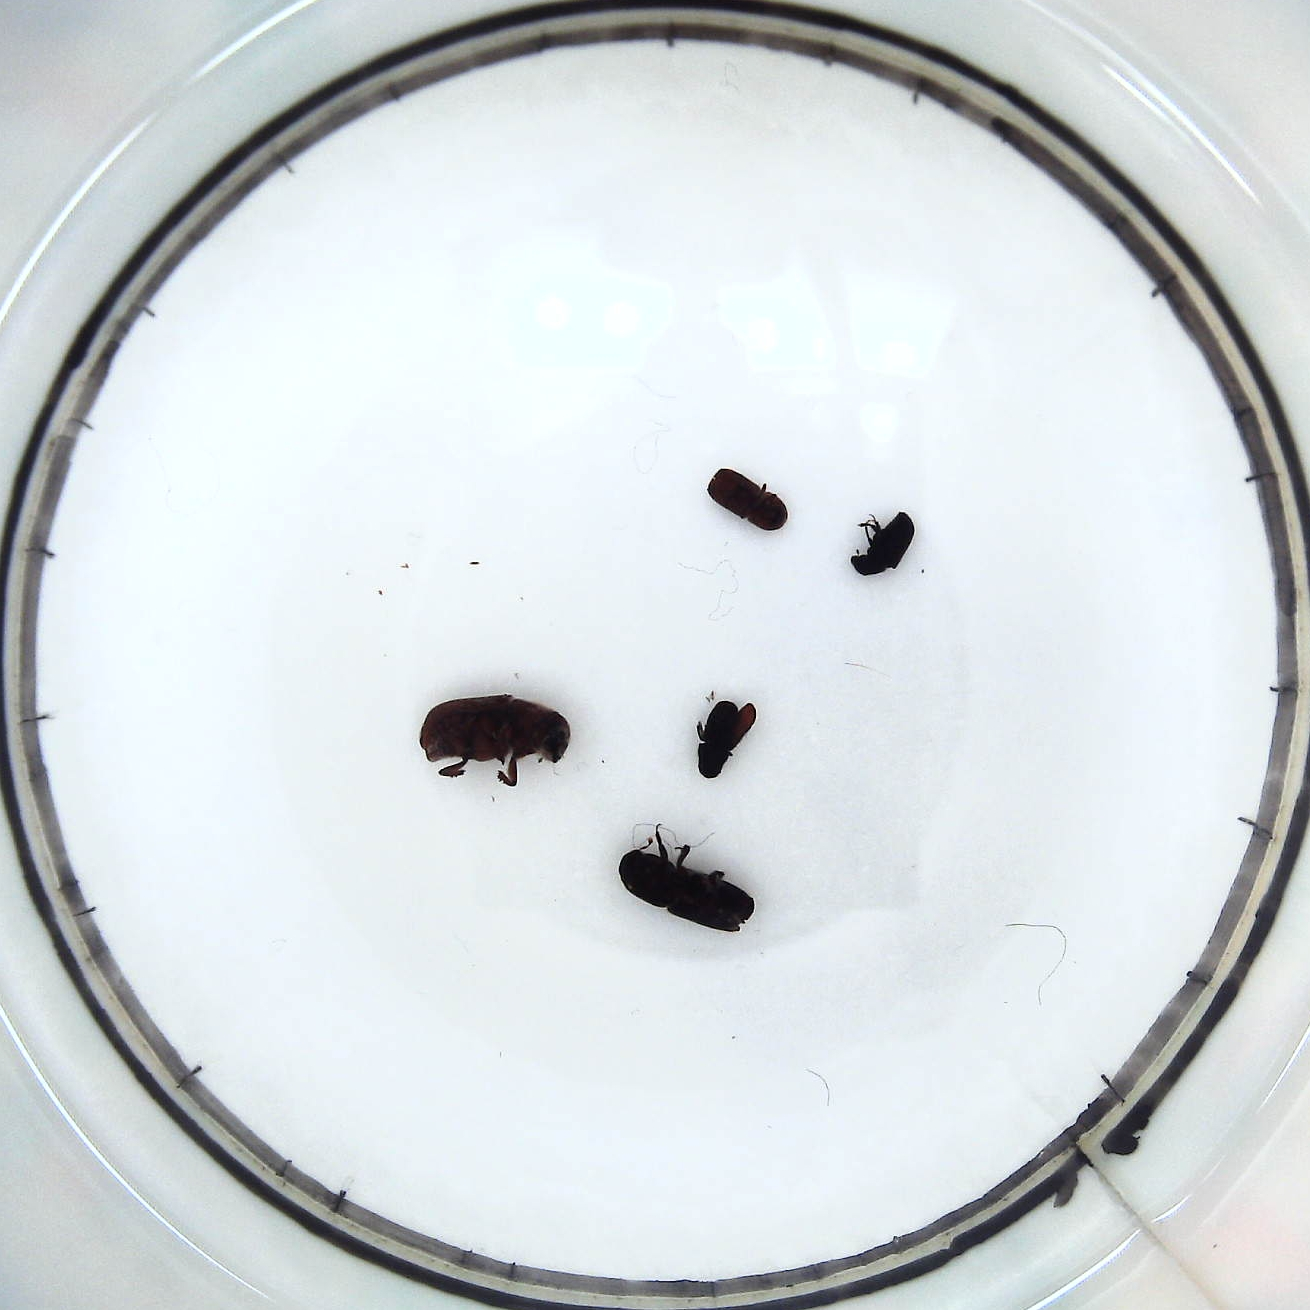Boerner: (615, 824, 761, 939)
Leconte: (414, 690, 579, 792)
armandi: (690, 690, 761, 785)
coleoptera: (843, 501, 919, 585)
linnaeus: (704, 461, 791, 539)
